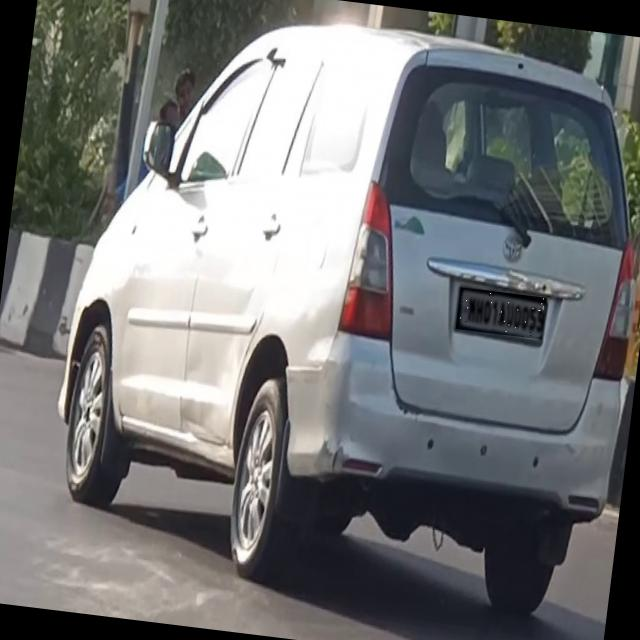Plate: (456, 288, 547, 340)
